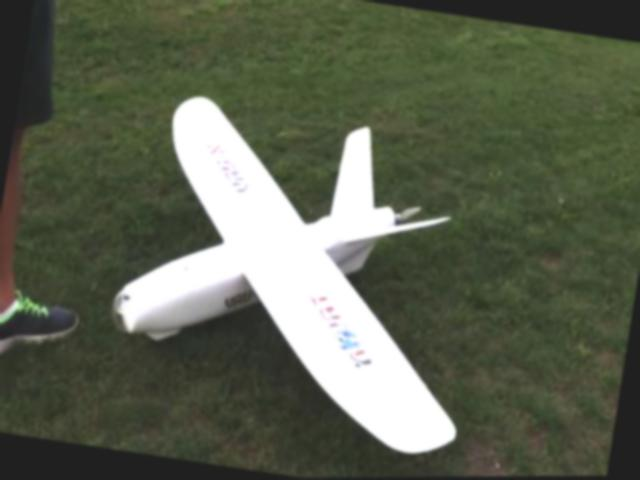uav: (96, 92, 502, 469)
